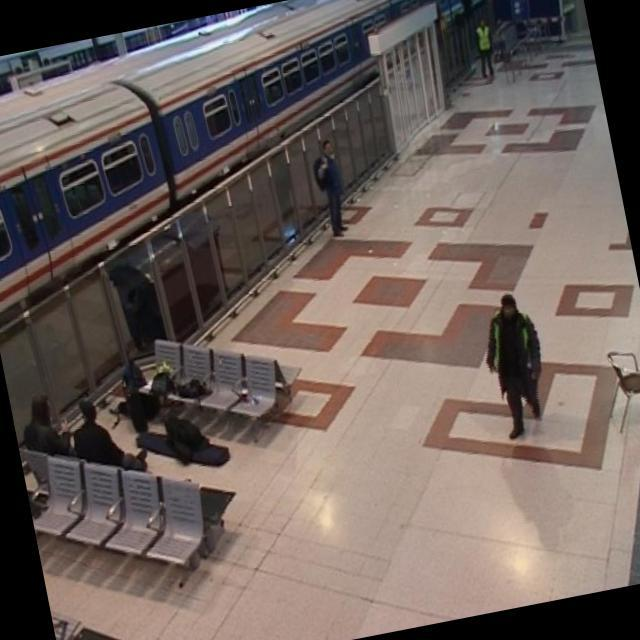person: (466, 284, 564, 450), (305, 136, 357, 242), (468, 12, 505, 84)
